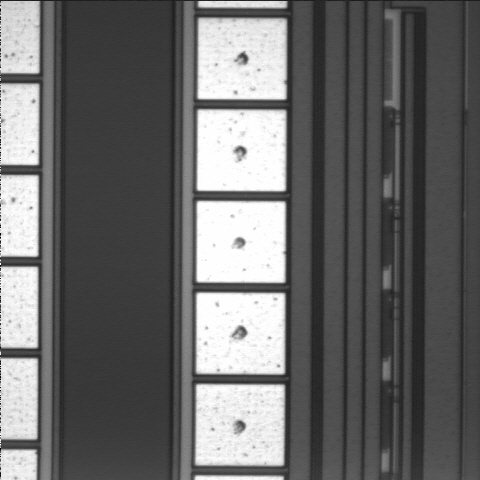pad: (196, 201, 286, 283), (195, 384, 285, 466), (197, 109, 286, 191), (198, 18, 286, 100), (196, 293, 285, 374)
